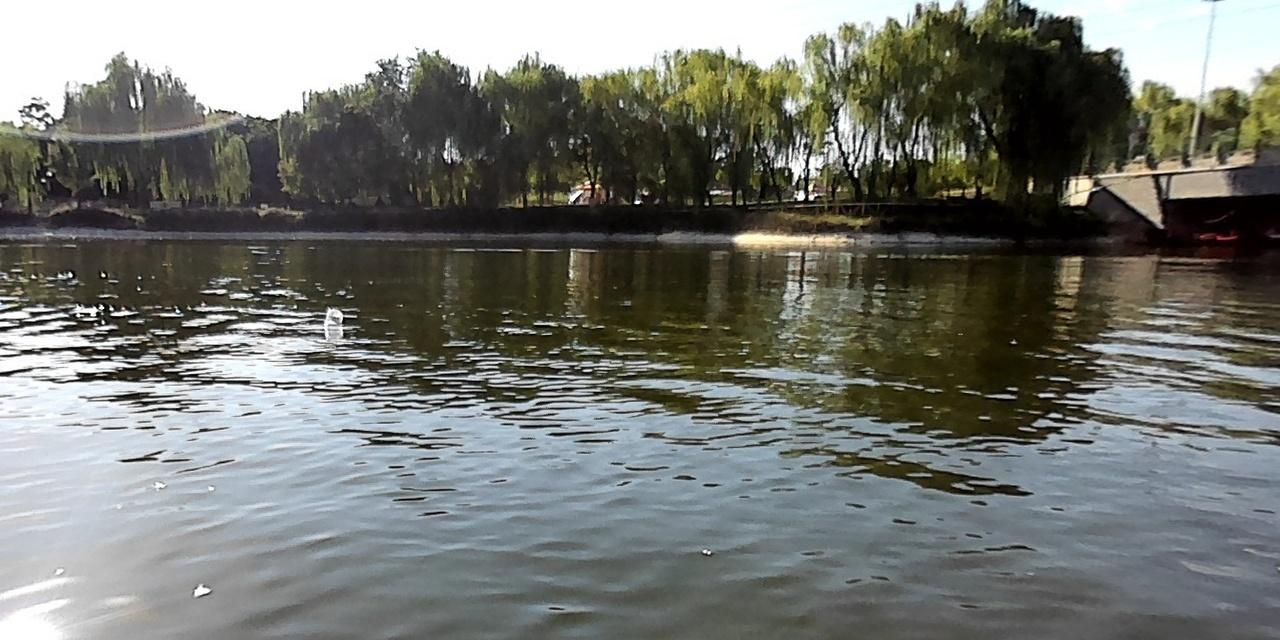bottle: (319, 308, 343, 324)
